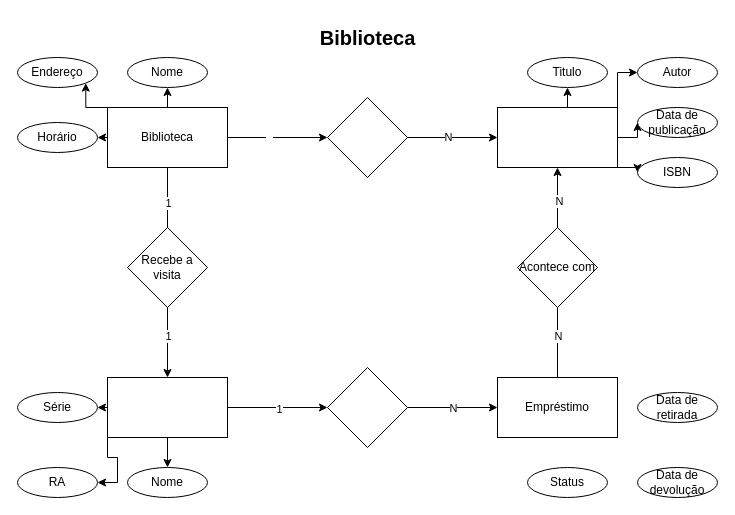
Some shapes in this 735 by 515 pixel diagram are drawn without their labels. The box of each missing label's shape, as (x1, y1, x2, y2) in pixels:
Aluno: (106, 376, 228, 438)
Contém: (326, 96, 408, 178)
Faz: (326, 366, 408, 448)
Livro: (496, 106, 618, 168)
